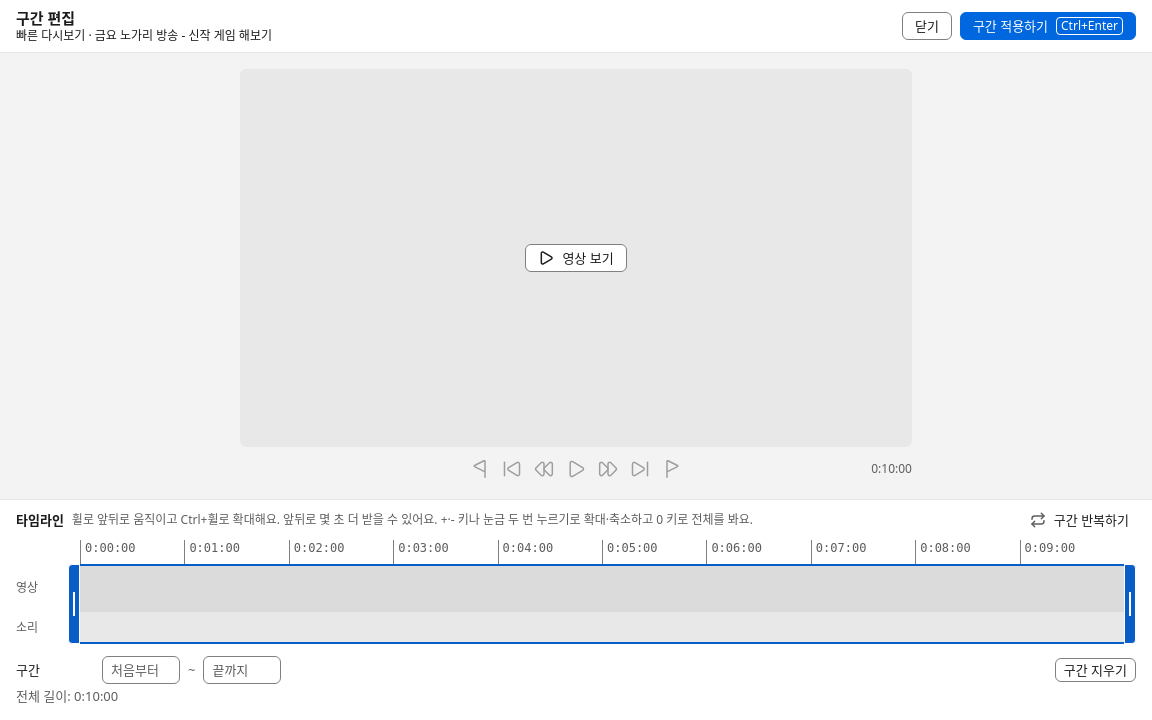
Test: 초안·적용(RE2~RE6) › 적용 오류(순서): 화면은 열린 채, 그 칸 아래 알림·aria-invalid·aria-describedby·포커스, 초안 보존
The image size is (1152, 720).
Type "0:08:00" into the field named "시작 시각" at coordinates (141, 670), box [102,656,180,684]
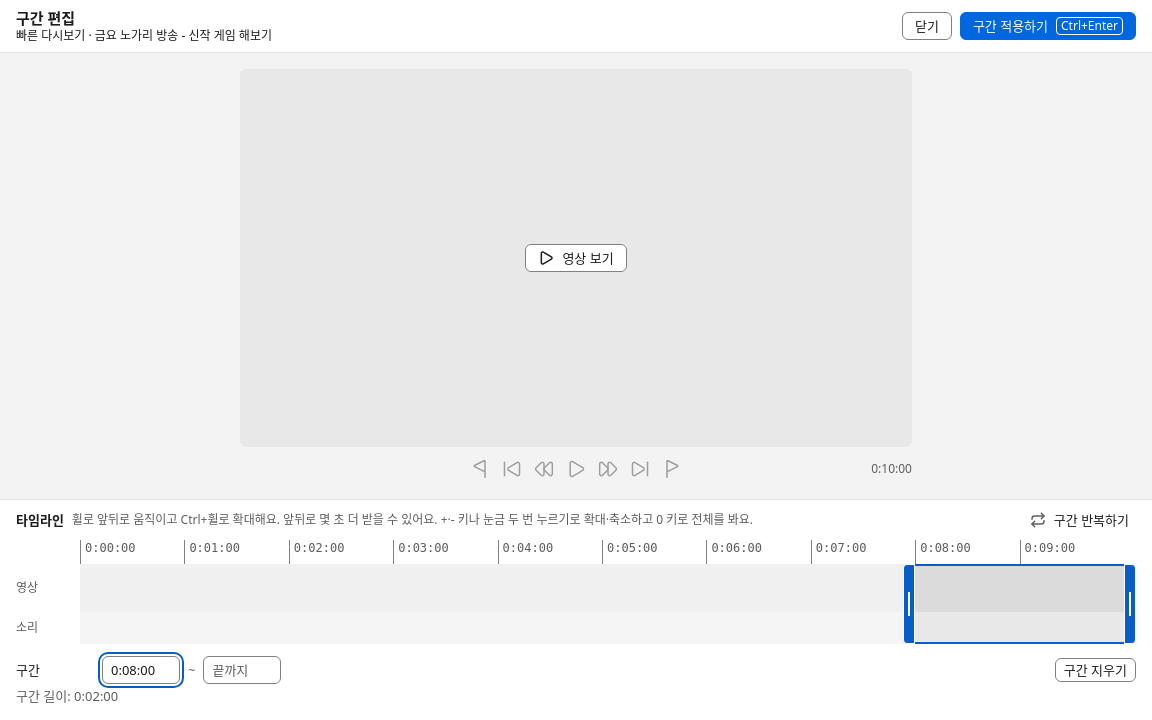
Type "0:05:00" into the field named "끝 시각" at coordinates (242, 670), box [203,656,281,684]
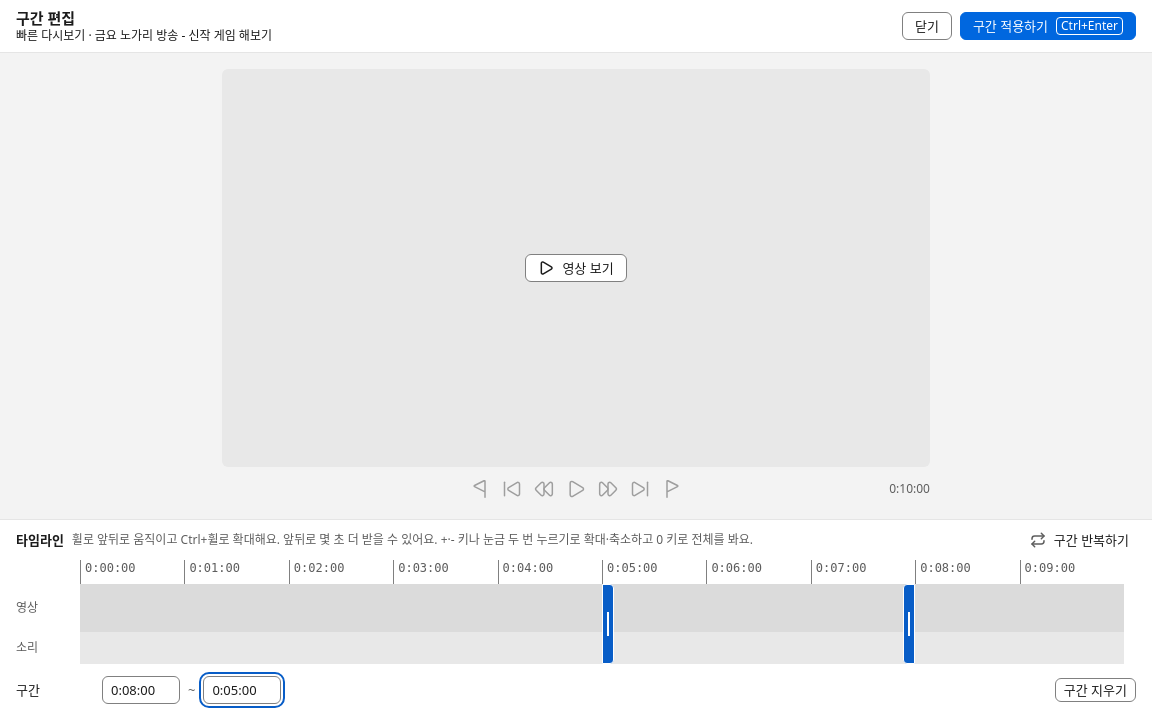
Click the button "구간 적용하기 Ctrl+Enter" at coordinates (1048, 26), box [960,12,1136,40]
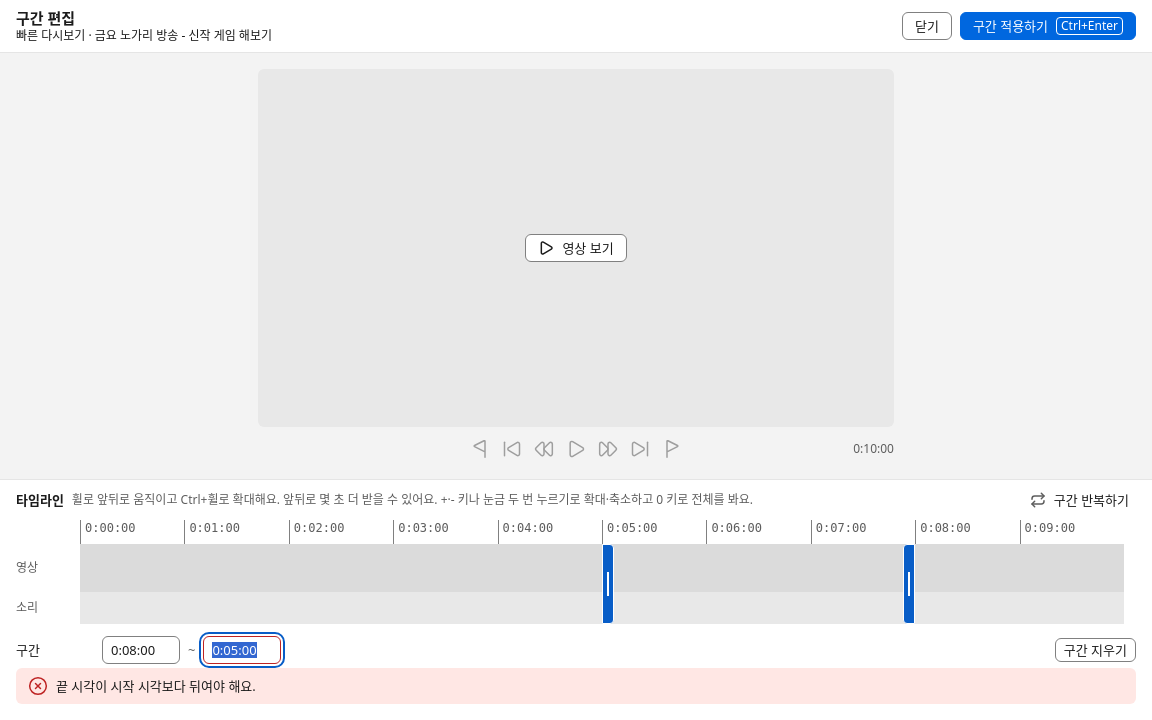
Now the message reads "끝 시각이 시작 시각보다 뒤여야 해요.", box [56,677,256,695]
